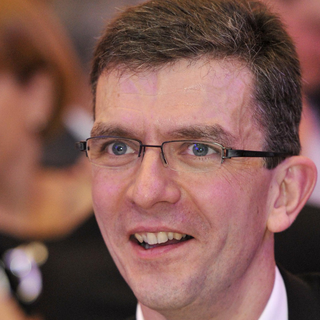eye: (96, 138, 142, 162), (179, 139, 225, 163)
